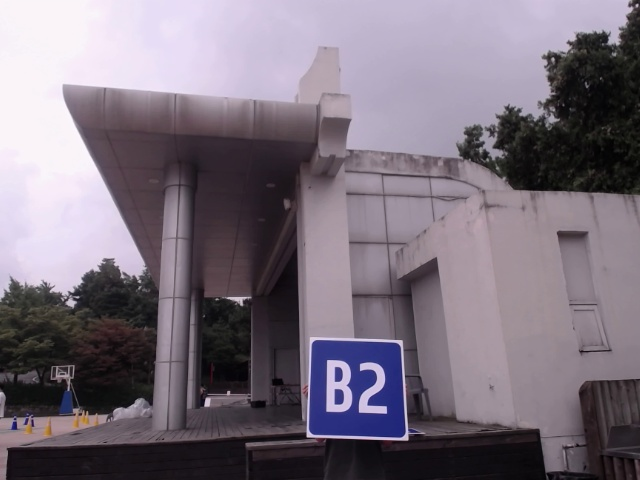delivery_b2: (311, 339, 408, 438)
